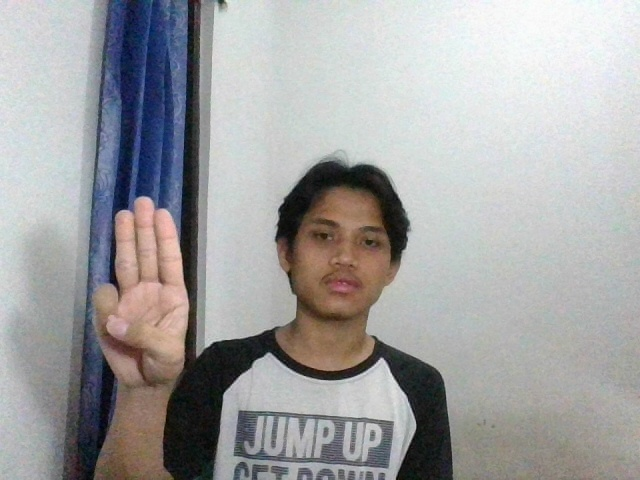Six: (80, 196, 213, 388)
